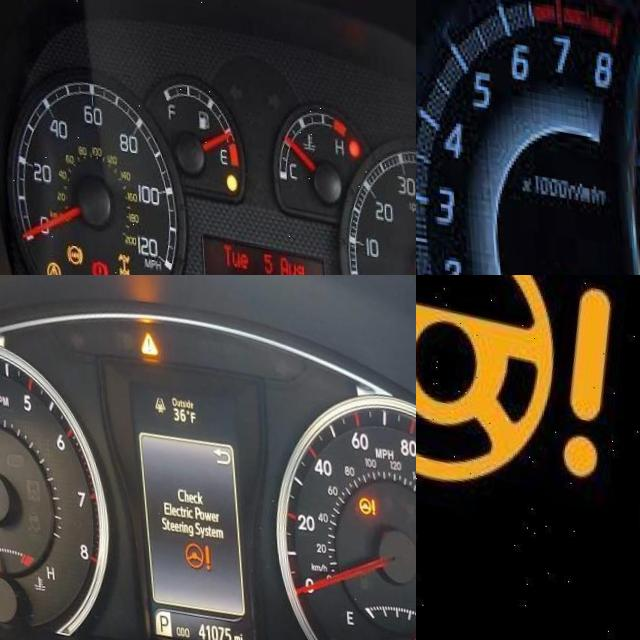Electronic Power Steering: (176, 526, 205, 560), (351, 479, 373, 499)
Electronic Power Steering Warning: (416, 275, 619, 501)
